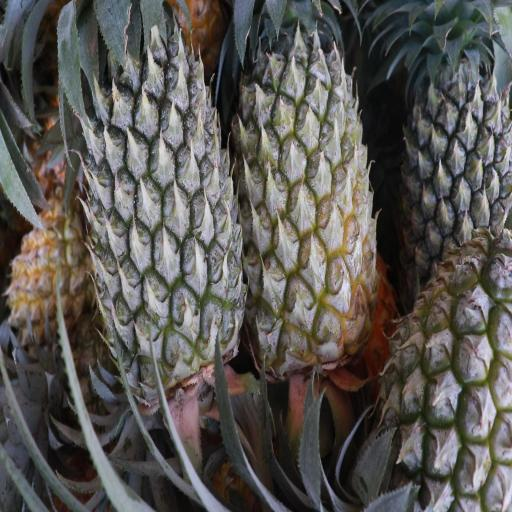------------------------------: (240, 16, 380, 348), (387, 238, 512, 512)
Pineapple - v8 v1: (9, 184, 88, 336)
